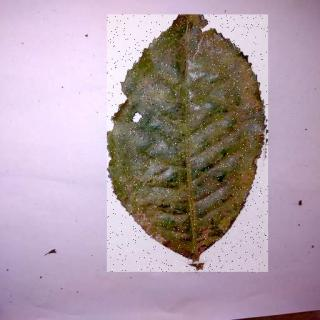Anthracnose: (108, 16, 269, 274)
